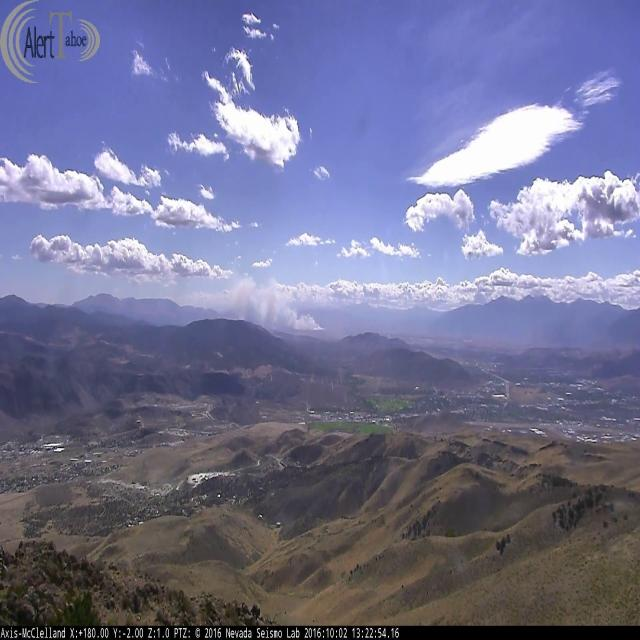smoke: (229, 279, 324, 330)
